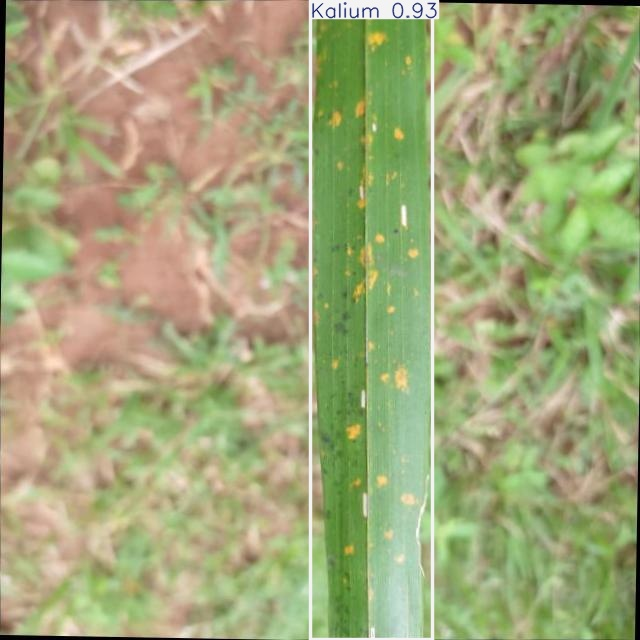Kalium: (311, 0, 432, 640)
